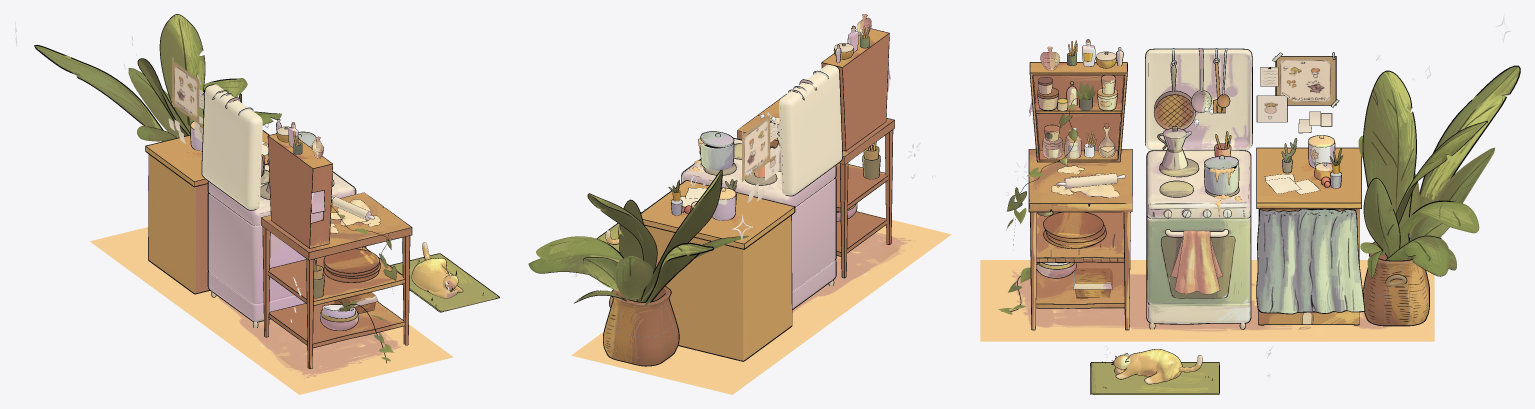
Rendered from desk.glb.
3 views of the same model, side by side, from view 1: azimuth 30°, elevation 25°; view 2: azimuth 150°, elevation 25°; view 3: azimuth 270°, elevation 25° (orthographic). The views are drawn at different scales.
Parts seen in each view (by area): view 1: Object_18, Object_39, Object_436, Object_21, Object_104, Object_53, Object_566; view 2: Object_18, Object_39, Object_436, Object_21, Object_104, Object_53, Object_16; view 3: Object_18, Object_436, Object_39, Object_104, Object_21, Object_53, Object_566, Object_16, Object_6.
Part boxes in pixels (box(x1,y1,x2,y2)): Object_18: box(146, 84, 411, 368); Object_39: box(90, 227, 498, 394); Object_436: box(35, 14, 396, 361); Object_21: box(34, 14, 499, 368); Object_104: box(191, 91, 380, 330); Object_53: box(168, 57, 324, 222); Object_566: box(412, 242, 462, 298); Object_18: box(603, 29, 894, 365); Object_39: box(571, 211, 951, 394); Object_436: box(528, 170, 748, 306); Object_21: box(536, 14, 894, 366); Object_104: box(609, 14, 880, 306); Object_53: box(680, 60, 890, 206); Object_16: box(641, 114, 795, 249); Object_18: box(1029, 49, 1428, 329); Object_436: box(998, 66, 1519, 314); Object_39: box(980, 260, 1434, 394); Object_104: box(1035, 40, 1406, 329); Object_21: box(1001, 39, 1520, 394); Object_53: box(1029, 52, 1338, 194); Object_566: box(1113, 349, 1202, 383); Object_16: box(1194, 107, 1361, 216); Object_6: box(1005, 14, 1511, 377).
Bounding box in the file's own units: 4.97 × 3.6 × 7.18.
Materials: 10 (6 with a texture image).
